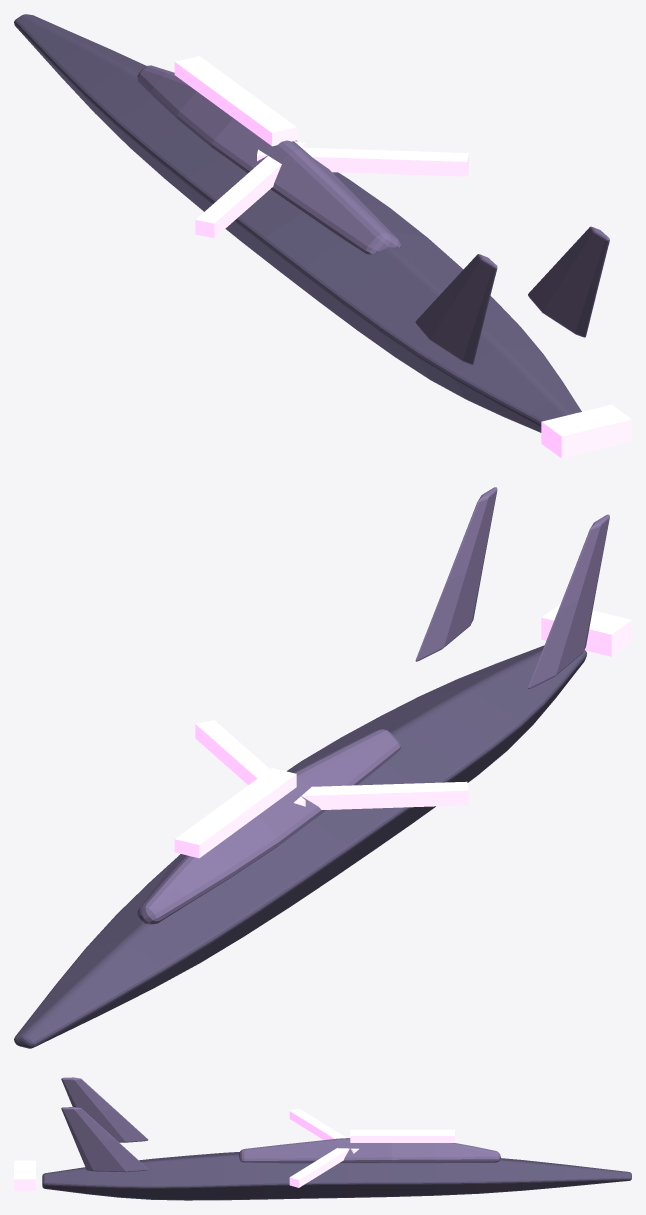
The model's file is illumaria-scout.glb.
3 views of the same model, one above another, from view 1: azimuth 30°, elevation 25°; view 2: azimuth 150°, elevation 25°; view 3: azimuth 270°, elevation 25° (orthographic). The views are drawn at different scales.
Visible parts, largest first — view 1: hull, hull.001, fin, fin.001, Cube, Cube.002, Cube.003, Cube.001; view 2: hull, hull.001, fin, fin.001, Cube, Cube.001, Cube.002, Cube.003; view 3: hull, hull.001, fin.001, fin, Cube, Cube.002, Cube.001, Cube.003.
Boxes of the visible parts, box(x1,y1,x2,y2) form: hull: box(14, 14, 581, 432); hull.001: box(137, 65, 400, 254); fin: box(415, 254, 497, 364); fin.001: box(528, 226, 609, 337); Cube: box(174, 56, 296, 146); Cube.002: box(257, 147, 468, 176); Cube.003: box(541, 404, 631, 458); Cube.001: box(195, 141, 305, 238); hull: box(14, 645, 586, 1048); hull.001: box(137, 729, 400, 924); fin: box(528, 514, 609, 688); fin.001: box(415, 487, 497, 661); Cube: box(174, 768, 296, 858); Cube.001: box(301, 781, 468, 809); Cube.002: box(195, 720, 305, 806); Cube.003: box(541, 603, 631, 656); hull: box(42, 1152, 631, 1200); hull.001: box(239, 1138, 500, 1163); fin.001: box(61, 1107, 148, 1172); fin: box(61, 1077, 148, 1142); Cube: box(350, 1129, 454, 1142); Cube.002: box(289, 1148, 349, 1187); Cube.001: box(289, 1108, 358, 1153); Cube.003: box(14, 1160, 35, 1190).
Size of the model in its own units: 0.7785 by 0.4948 by 2.83.
